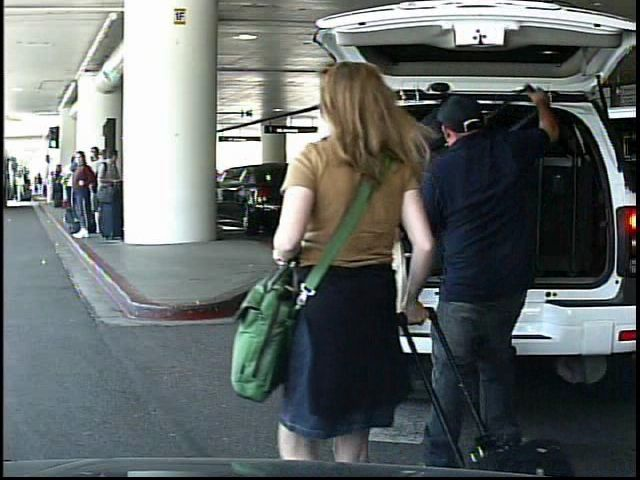person: (262, 52, 451, 471), (387, 79, 553, 454), (16, 174, 26, 205), (35, 172, 46, 199)
